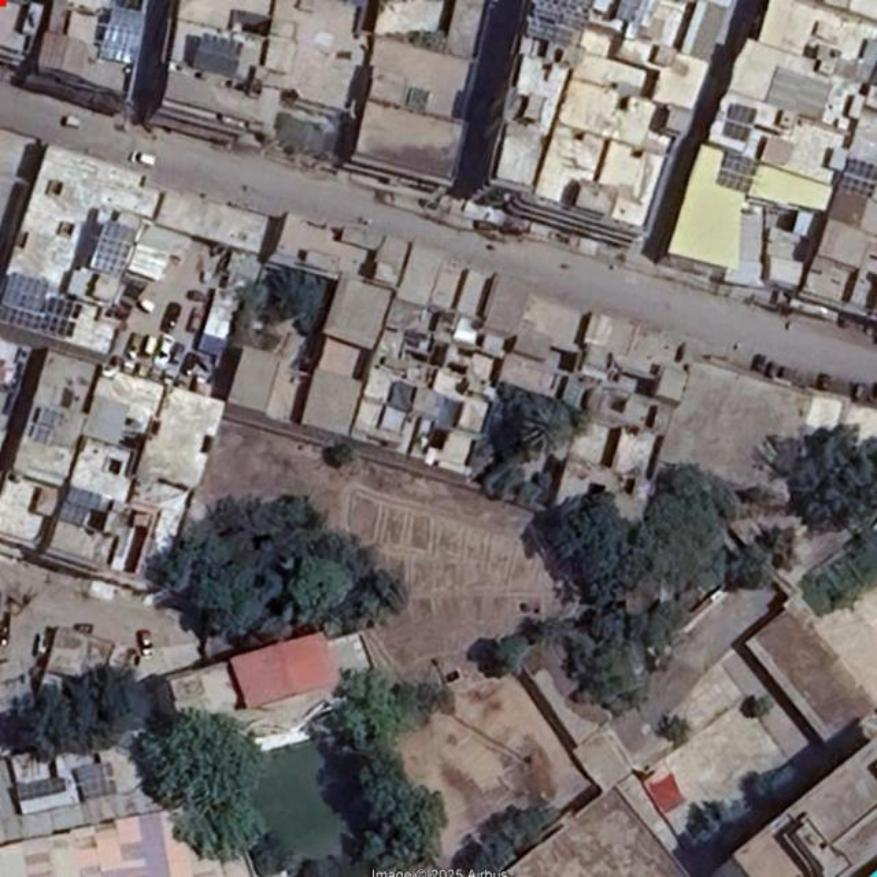Solarpanel: (101, 5, 147, 67), (0, 275, 48, 331), (88, 222, 136, 274), (192, 34, 242, 78), (38, 297, 80, 342), (77, 763, 117, 802), (717, 152, 758, 190), (721, 102, 756, 143), (840, 159, 876, 197), (59, 489, 98, 522), (527, 18, 571, 46), (16, 779, 62, 797)
